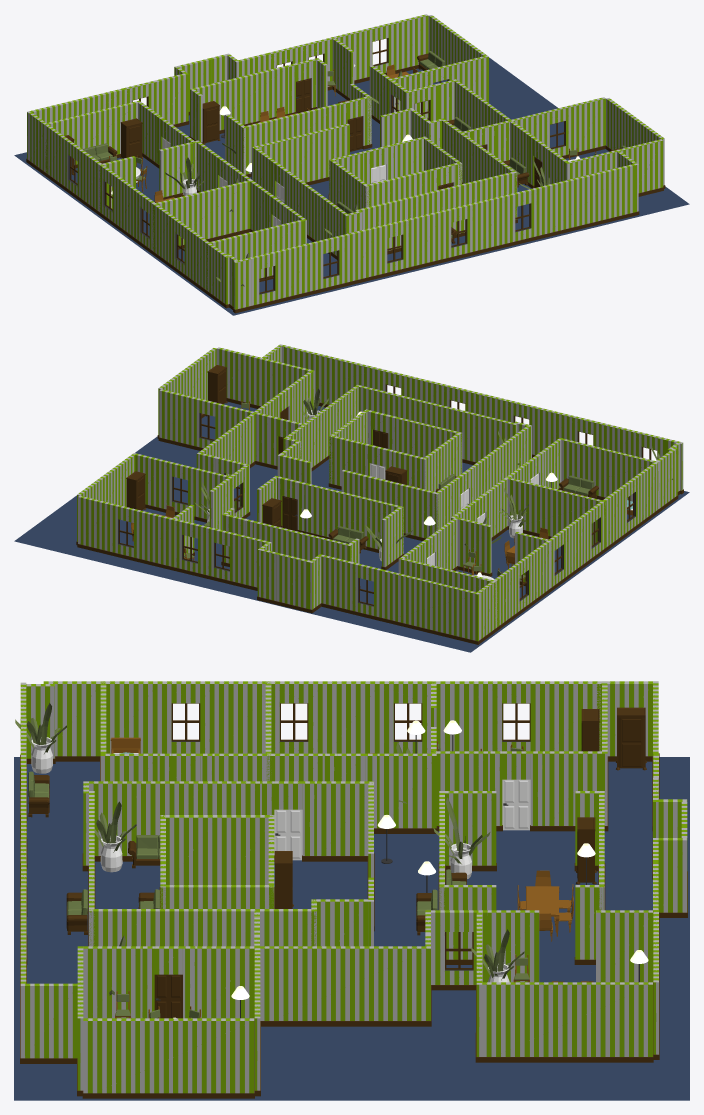
File: Level.fbx
3 views of the same model, one above another, from view 1: azimuth 30°, elevation 25°; view 2: azimuth 150°, elevation 25°; view 3: azimuth 270°, elevation 25° (orthographic). The views are drawn at different scales.
Parts seen in each view (by area): view 1: Teppich, Wand_20, Wand_99, Wand_104, Wand_89, Wand_105, Wand_78, Wand_48, Wand_26_2, Wand_24_2, Wand_28_2, Wand_22 (+79 smaller); view 2: Teppich, Wand_67, Wand_105, Wand_99, Wand_78, Wand_20, Wand_104, Wand_121, Wand_10, Wand_44, Wand_103, Wand_7 (+78 smaller); view 3: Teppich, Wand_48, Wand_11, Wand_121, Wand_19, Wand_97, Wand_94, Wand_50, Wand_52, Wand_13, Wand_123, Wand_74 (+62 smaller).
Part boxes in pixels (x1,y1,x2,y2): Teppich: [14, 57, 689, 315]; Wand_20: [538, 164, 635, 235]; Wand_99: [153, 180, 250, 245]; Wand_104: [190, 66, 287, 136]; Wand_89: [45, 100, 140, 169]; Wand_105: [242, 103, 339, 174]; Wand_78: [206, 219, 303, 290]; Wand_48: [606, 98, 664, 185]; Wand_26_2: [346, 226, 379, 282]; Wand_24_2: [410, 211, 443, 266]; Wand_28_2: [282, 242, 315, 297]; Wand_22: [474, 195, 507, 250]; Teppich: [14, 401, 689, 652]; Wand_67: [382, 570, 479, 641]; Wand_105: [305, 483, 403, 553]; Wand_99: [507, 477, 605, 545]; Wand_78: [561, 438, 659, 509]; Wand_20: [281, 345, 378, 404]; Wand_104: [254, 521, 351, 561]; Wand_121: [196, 413, 255, 475]; Wand_10: [142, 511, 175, 566]; Wand_44: [159, 389, 192, 444]; Wand_103: [457, 518, 491, 573]; Wand_7: [78, 495, 111, 551]; Teppich: [14, 757, 689, 1100]; Wand_48: [83, 1018, 254, 1093]; Wand_11: [482, 982, 652, 1056]; Wand_121: [260, 946, 430, 1020]; Wand_19: [20, 983, 77, 1058]; Wand_97: [322, 681, 379, 753]; Wand_94: [379, 753, 436, 828]; Wand_50: [197, 946, 254, 1018]; Wand_52: [83, 946, 140, 1018]; Wand_13: [596, 910, 652, 982]; Wand_123: [317, 781, 373, 855]; Wand_74: [214, 681, 271, 753].
Bounding box in the file's own units: 2854 × 302 × 2373.
9 materials, 1 textured.
